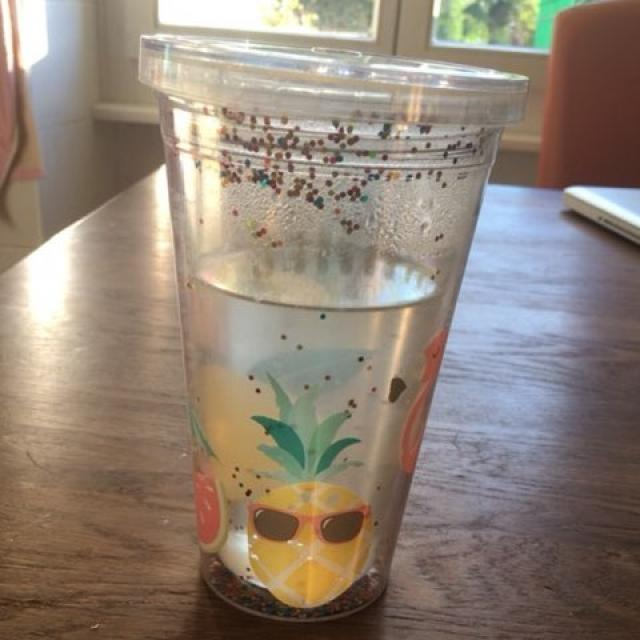drink: (167, 71, 509, 611)
